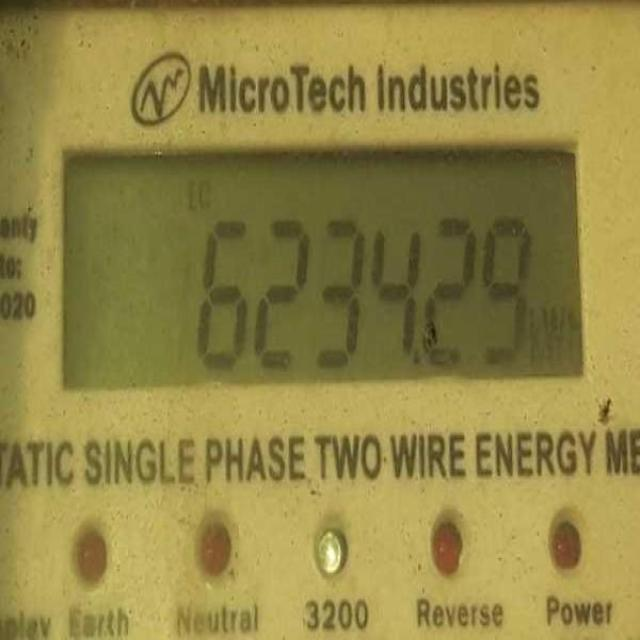2: (259, 202, 315, 377), (426, 204, 478, 370)
3: (318, 216, 369, 380)
4: (376, 215, 421, 373)
6: (198, 212, 252, 378)
9: (481, 216, 535, 368)
Digital meter: (59, 153, 582, 387)
point: (406, 344, 428, 373)
